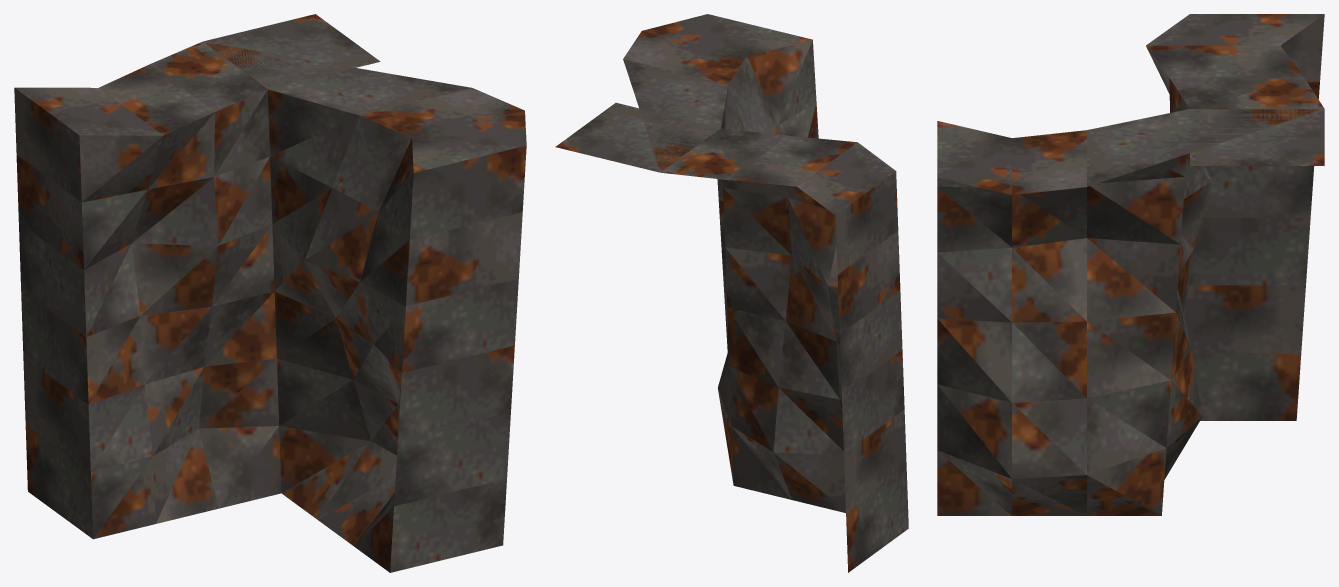
The model's file is SM_cliff_corner.fbx.
3 views of the same model, side by side, from view 1: azimuth 30°, elevation 25°; view 2: azimuth 150°, elevation 25°; view 3: azimuth 270°, elevation 25° (orthographic). The views are drawn at different scales.
Visible parts, largest first — view 1: cliff_corner; view 2: cliff_corner; view 3: cliff_corner.
Part boxes in pixels (left/top/right/bottom): cliff_corner: left=14, top=14, right=526, bottom=572; cliff_corner: left=555, top=14, right=908, bottom=572; cliff_corner: left=937, top=14, right=1324, bottom=515.
Bounding box in the file's own units: 3.82 × 4 × 3.45.
